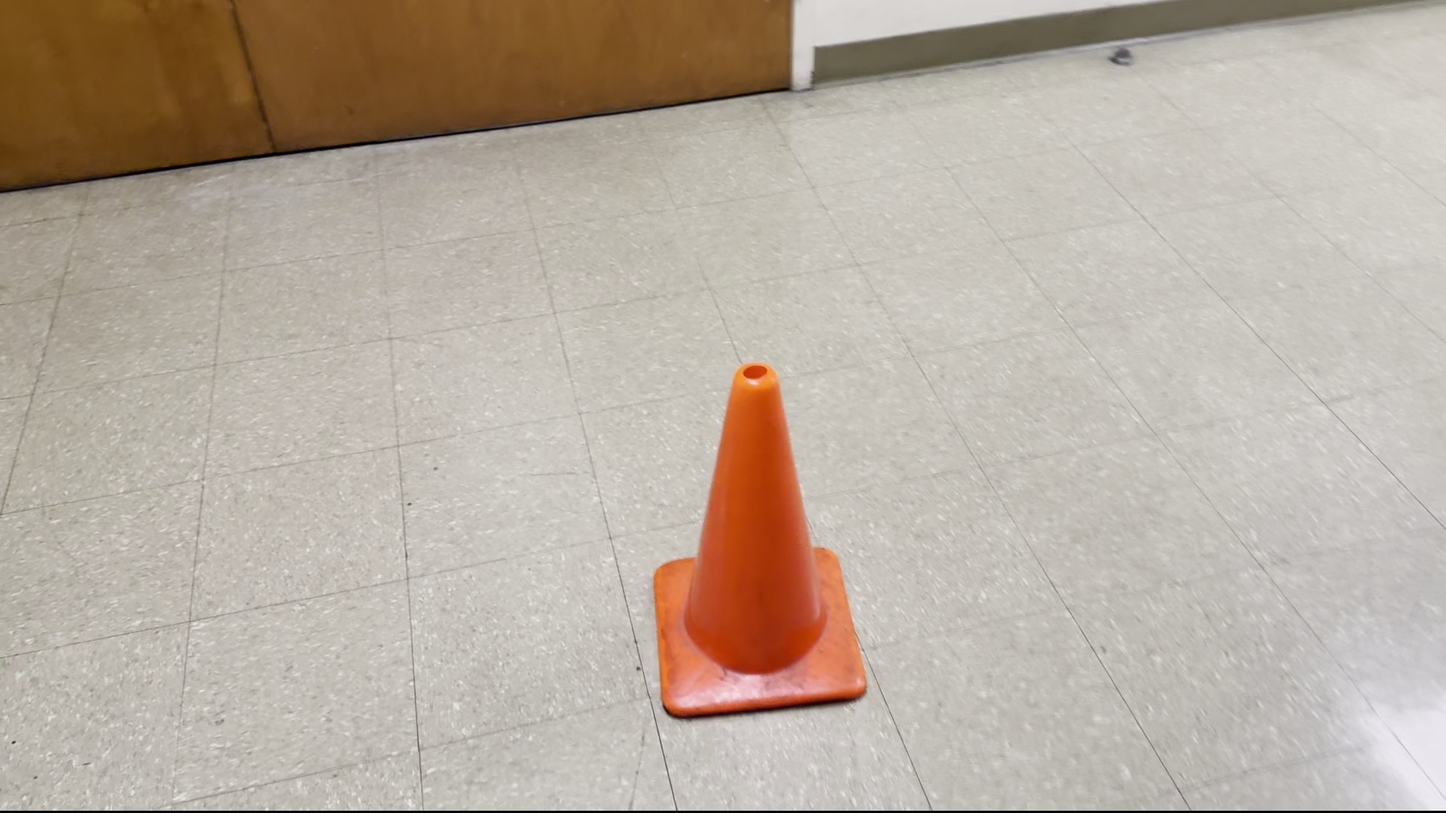traffic_cone: (652, 361, 868, 719)
